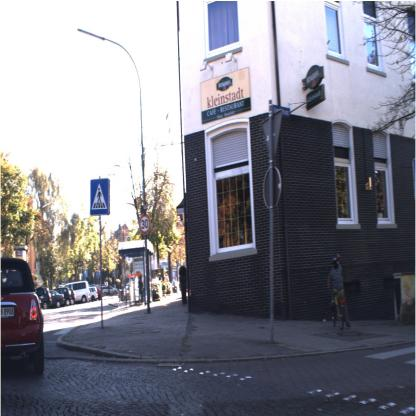speed limit 30: (138, 214, 150, 234)
